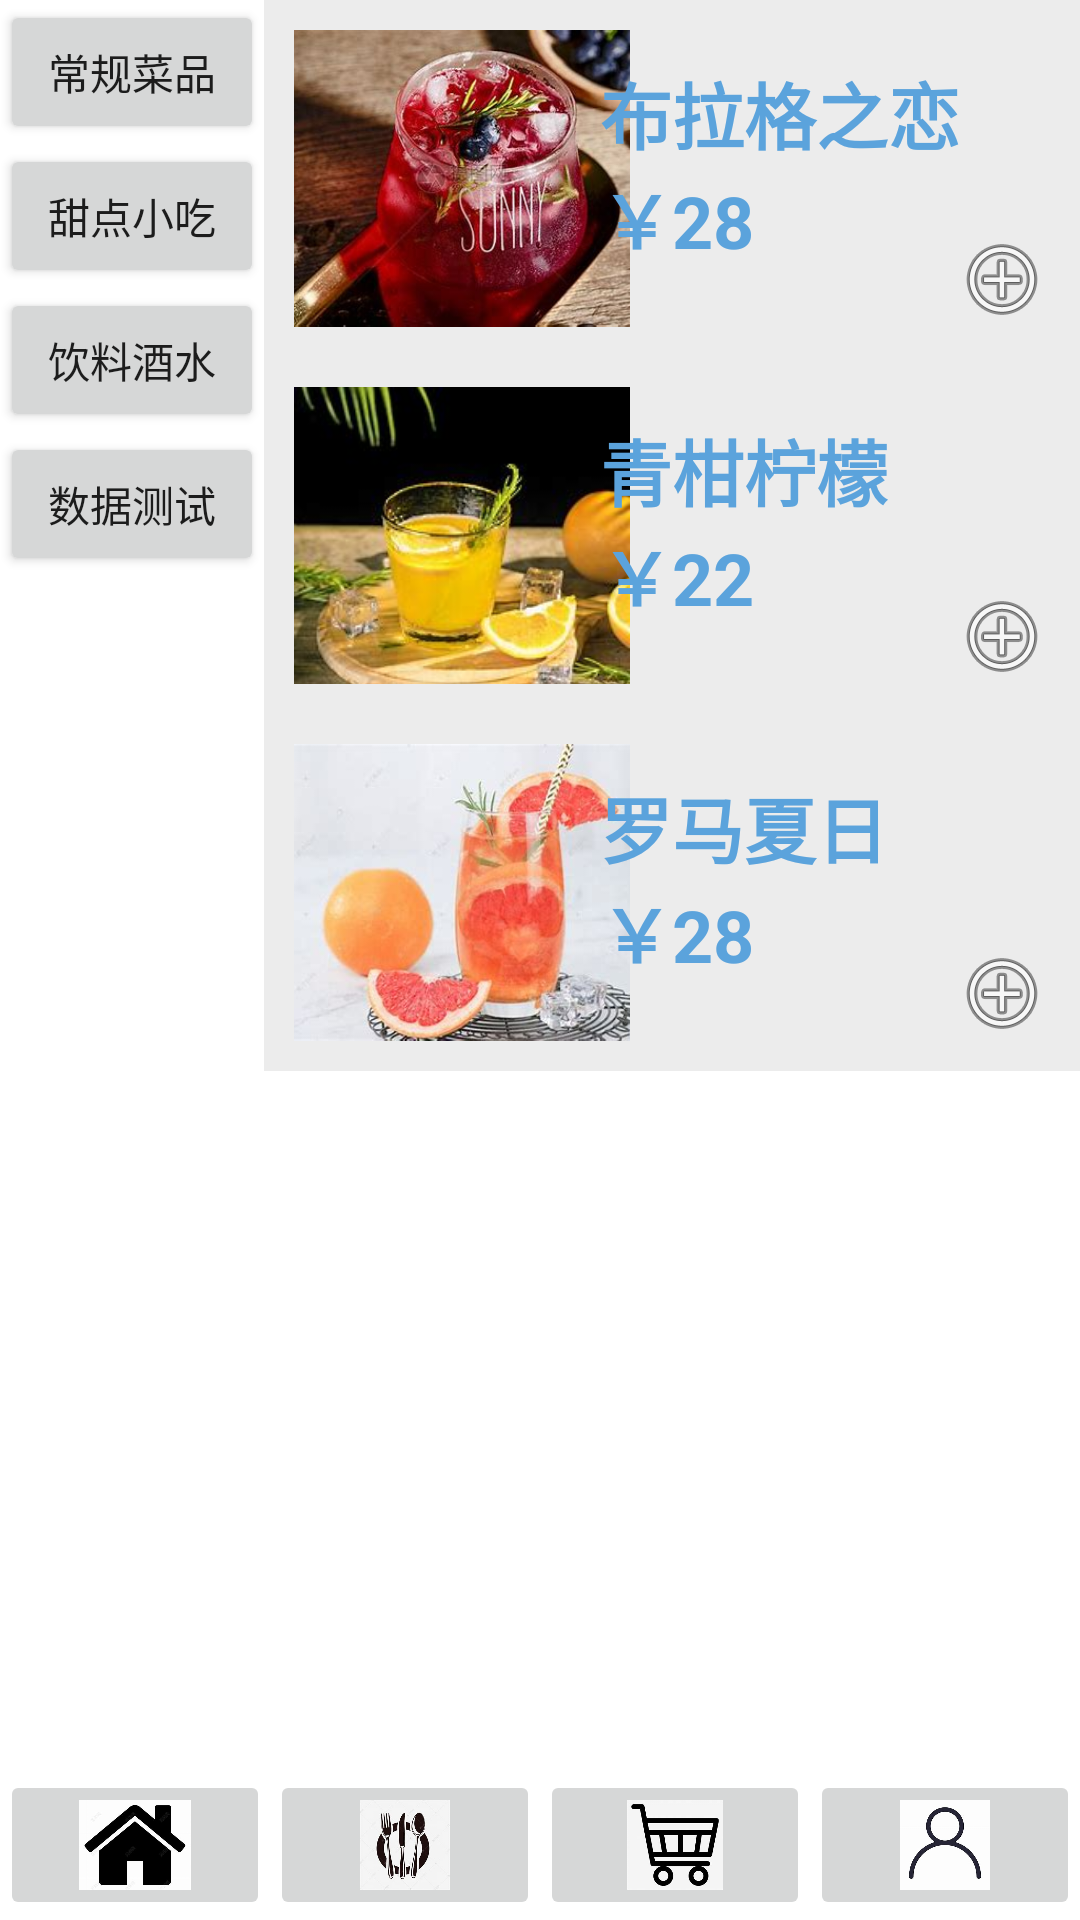

Named icons in this screenshot (1080px x 1920px) and their bounding boxes, (x1, y1, x2, y2):
add: (966, 244, 1038, 315), (966, 601, 1038, 672), (966, 958, 1038, 1029)
drink: (294, 30, 630, 327), (294, 387, 630, 684), (318, 744, 630, 1041)
homeimage: (12, 1788, 258, 1902)
